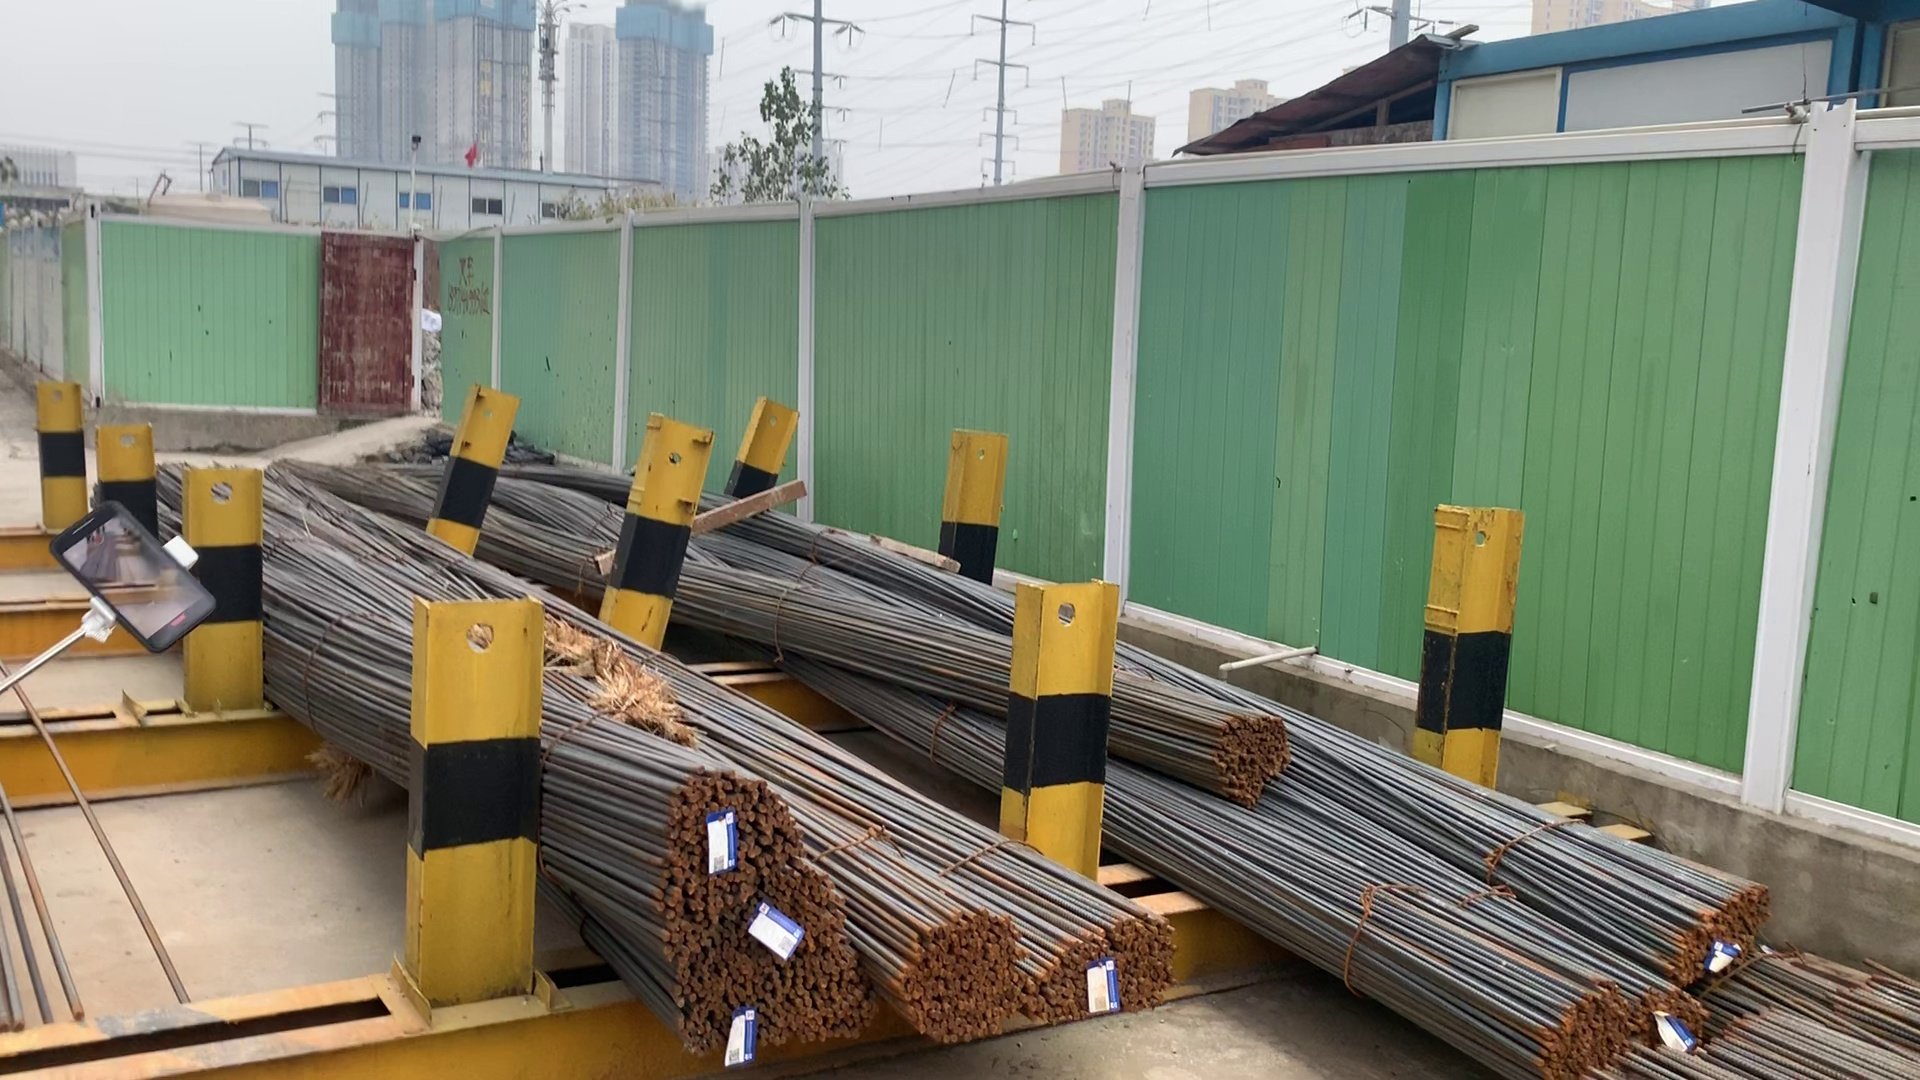rebar: (658, 771, 869, 1046), (899, 907, 1029, 1044), (1528, 981, 1706, 1069), (1035, 914, 1174, 1025), (1664, 880, 1772, 985), (1196, 707, 1296, 806)
